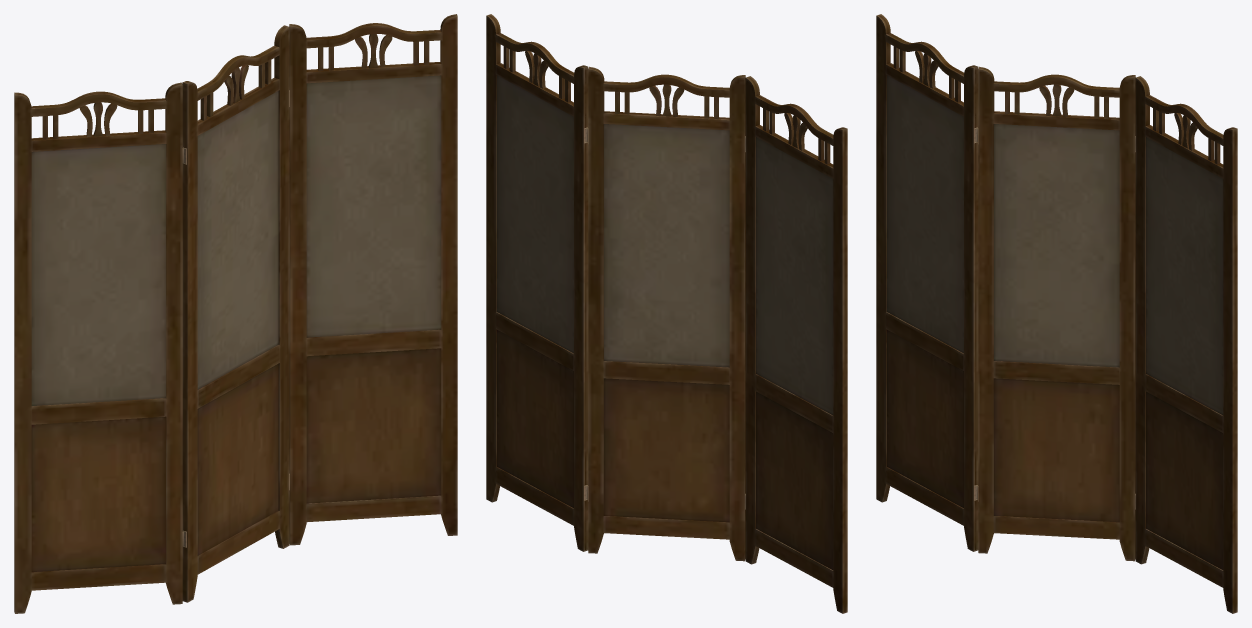
The model's file is SM_room_divider_21542f.glb.
3 renders of one model, left to right at view 1: azimuth 30°, elevation 25°; view 2: azimuth 150°, elevation 25°; view 3: azimuth 330°, elevation 25°, orthographic. The views are drawn at different scales.
Size of the model in its own units: 1.51 by 1.81 by 0.2279.
Materials: 1 (1 with a texture image).
